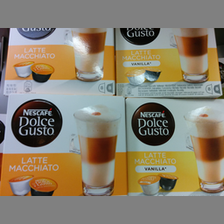coffee: (1, 94, 127, 196), (126, 95, 224, 194), (115, 28, 224, 99), (3, 28, 117, 95)
